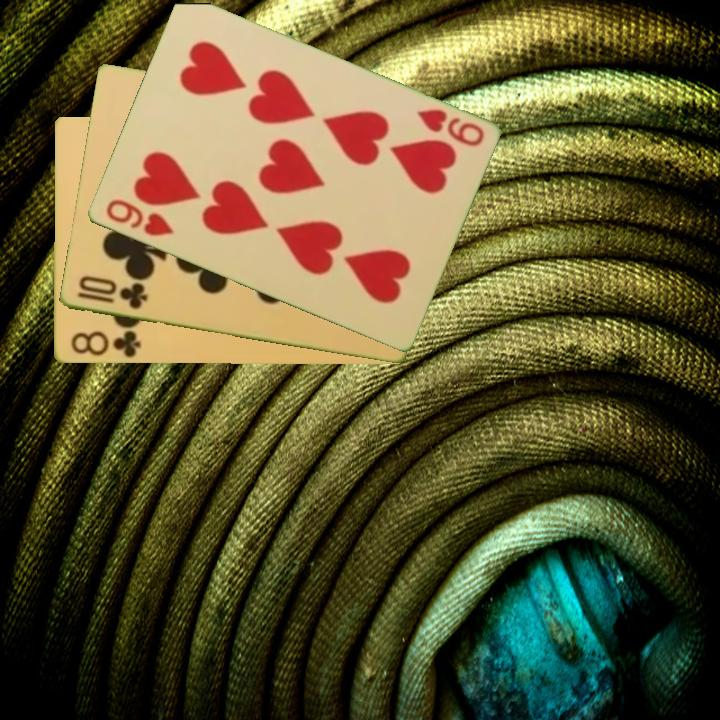10c: (73, 272, 151, 313)
8c: (67, 327, 144, 360)
9h: (412, 105, 487, 150), (102, 195, 176, 240)
